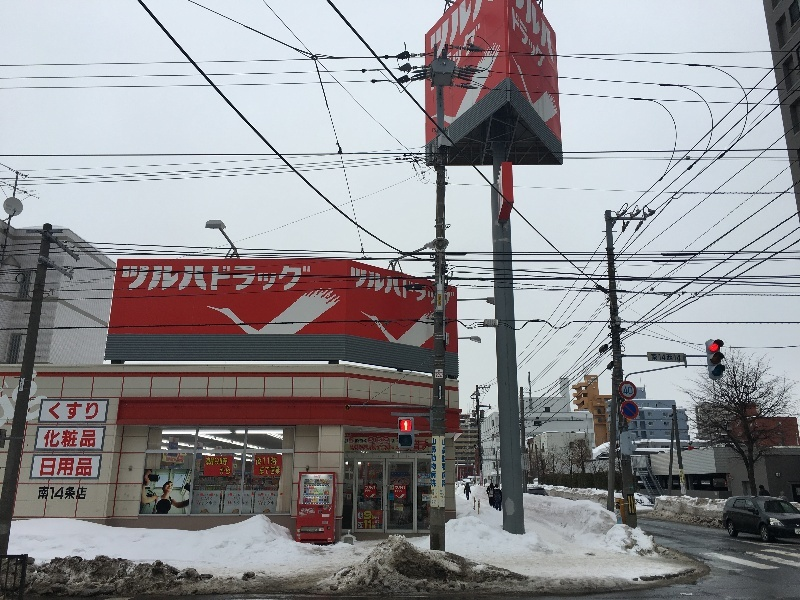text: (513, 5, 528, 74), (529, 5, 544, 74), (433, 1, 448, 64), (449, 1, 464, 64), (465, 1, 480, 64), (17, 368, 32, 428), (33, 368, 48, 428), (481, 1, 495, 64), (532, 1, 544, 66), (465, 22, 480, 72), (353, 266, 368, 311), (369, 266, 384, 311), (385, 266, 400, 311), (401, 266, 416, 311), (417, 266, 432, 311), (433, 266, 448, 311), (545, 1, 555, 66), (451, 22, 464, 72), (129, 265, 144, 293), (145, 265, 160, 293), (161, 265, 176, 293), (177, 265, 192, 293), (193, 265, 208, 293), (209, 265, 224, 293), (225, 265, 240, 293), (241, 265, 256, 293), (257, 265, 272, 293), (273, 265, 288, 293), (289, 265, 304, 293), (9, 368, 16, 428), (49, 429, 64, 449), (65, 429, 80, 449), (81, 429, 96, 449), (49, 457, 64, 477), (65, 457, 80, 477), (442, 438, 448, 488), (65, 402, 80, 421), (81, 402, 96, 421), (449, 266, 455, 311), (50, 402, 64, 421), (81, 457, 93, 477), (49, 485, 64, 501), (65, 485, 80, 501), (401, 436, 416, 452), (433, 438, 437, 488), (481, 22, 485, 72), (429, 1, 432, 64), (358, 512, 368, 530), (419, 439, 432, 452), (122, 265, 128, 293), (305, 265, 311, 293), (209, 457, 224, 467), (257, 456, 272, 466), (177, 453, 192, 463), (39, 485, 48, 501), (41, 457, 48, 477), (545, 5, 547, 74), (481, 473, 496, 482), (49, 368, 51, 428), (260, 466, 272, 476), (657, 354, 672, 362), (81, 485, 88, 501), (353, 444, 368, 451), (369, 444, 384, 451), (180, 455, 192, 463), (350, 266, 352, 311), (439, 296, 448, 306), (273, 466, 281, 476), (369, 438, 384, 443), (523, 454, 528, 469), (625, 386, 633, 395), (680, 474, 688, 483), (673, 354, 682, 362), (258, 501, 272, 506), (385, 444, 395, 451), (227, 501, 240, 506), (355, 439, 368, 444), (396, 436, 400, 452), (436, 373, 448, 378), (45, 429, 48, 449), (228, 493, 240, 498), (305, 508, 315, 514), (372, 515, 384, 520), (372, 525, 384, 530), (97, 402, 100, 421), (225, 467, 231, 476), (273, 456, 278, 466), (166, 457, 176, 462), (363, 520, 368, 530), (196, 501, 208, 505), (244, 493, 256, 497), (376, 438, 384, 444), (388, 441, 400, 445), (376, 524, 384, 530), (391, 439, 400, 444), (197, 494, 208, 498), (258, 494, 272, 497), (274, 494, 288, 497), (418, 483, 432, 486), (434, 502, 448, 505), (522, 454, 528, 461), (594, 380, 608, 383), (209, 494, 219, 498), (390, 465, 400, 469), (651, 354, 656, 362), (220, 467, 224, 476), (199, 443, 208, 447), (263, 497, 272, 501), (420, 476, 432, 479), (364, 511, 368, 520), (375, 520, 384, 524), (265, 501, 272, 506), (345, 439, 352, 444), (369, 485, 376, 490), (373, 442, 384, 445), (232, 497, 240, 501), (417, 436, 419, 452), (376, 516, 384, 520), (438, 370, 448, 373), (225, 457, 228, 467), (234, 501, 240, 506), (422, 497, 432, 500), (369, 520, 372, 530), (526, 455, 528, 470), (201, 497, 208, 501), (345, 434, 352, 438), (418, 474, 432, 476), (434, 500, 448, 502), (369, 511, 372, 520), (203, 501, 208, 506), (349, 437, 352, 445), (385, 438, 389, 444), (440, 490, 448, 493), (440, 493, 448, 496), (440, 496, 448, 499), (349, 444, 352, 451), (97, 429, 98, 449), (206, 457, 208, 467), (209, 501, 213, 506), (369, 489, 374, 493), (395, 486, 400, 490), (433, 492, 438, 496), (433, 495, 438, 499), (314, 476, 320, 479), (301, 508, 304, 514), (209, 497, 213, 501), (380, 441, 384, 445), (401, 486, 405, 490), (588, 382, 592, 386), (365, 485, 368, 490), (395, 490, 400, 493), (433, 489, 438, 492), (527, 455, 528, 469), (529, 455, 530, 469), (365, 489, 368, 493), (593, 377, 597, 380), (641, 388, 645, 391), (588, 380, 592, 383), (255, 456, 256, 466), (273, 501, 275, 506), (401, 490, 404, 493), (623, 386, 624, 395), (273, 497, 275, 501), (353, 437, 354, 445), (383, 438, 384, 444), (433, 502, 434, 505), (591, 377, 592, 380), (639, 388, 640, 391), (433, 500, 434, 502)
